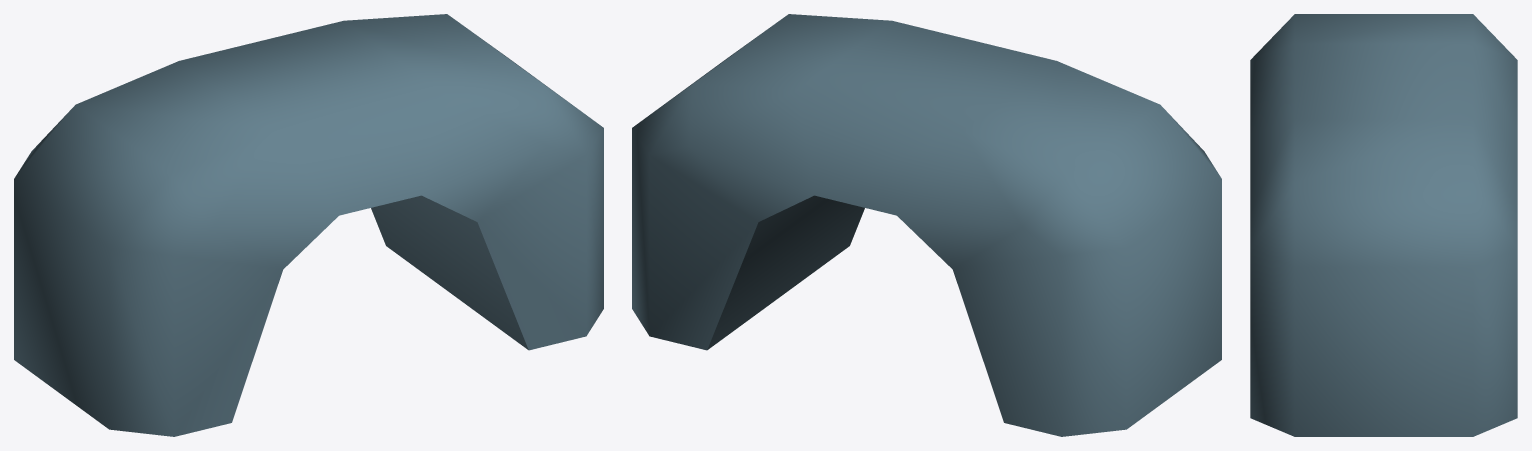
The model's file is TrapDoorHinge.FBX.
3 renders of one model, left to right at view 1: azimuth 30°, elevation 25°; view 2: azimuth 150°, elevation 25°; view 3: azimuth 270°, elevation 25°, orthographic. The views are drawn at different scales.
Visible parts, largest first — view 1: Box001; view 2: Box001; view 3: Box001.
Boxes of the visible parts, x1,y1,x2,y2 form: Box001: (14,14,603,436); Box001: (632,14,1221,436); Box001: (1250,14,1517,436).
Bounding box in the file's own units: 11.81 × 5.91 × 5.91.
Materials: 1 (1 with a texture image).
